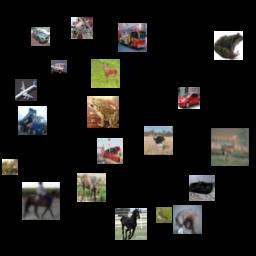airplane: (15, 79, 37, 101)
automobile: (178, 87, 200, 109), (31, 27, 50, 46), (51, 60, 67, 76)
bird: (144, 126, 173, 155), (156, 207, 172, 223)
cat: (189, 175, 215, 201)
deer: (211, 128, 249, 166), (77, 173, 106, 202), (91, 59, 120, 88), (2, 159, 18, 175)
dog: (173, 205, 202, 234)
frog: (87, 96, 119, 128), (214, 31, 243, 60)
ship: (97, 138, 123, 164)
truck: (18, 106, 47, 135), (118, 23, 147, 52)
